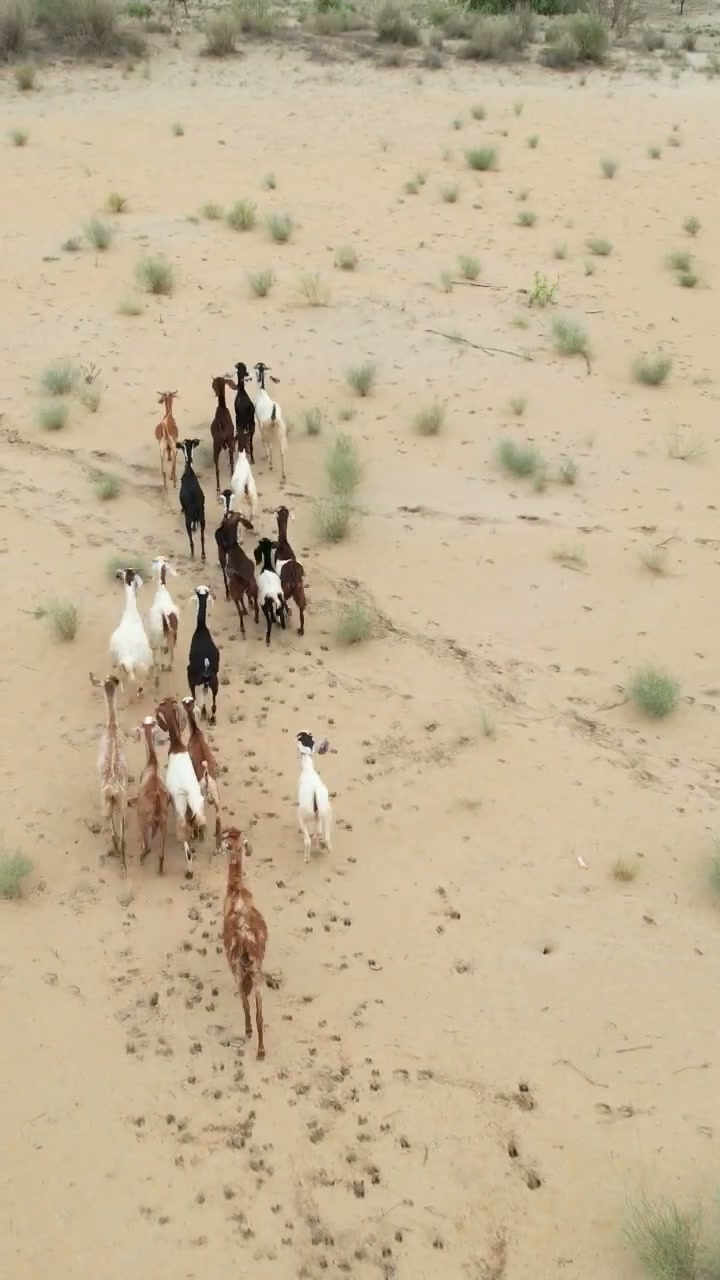animal_footprint: (121, 646, 533, 1279)
